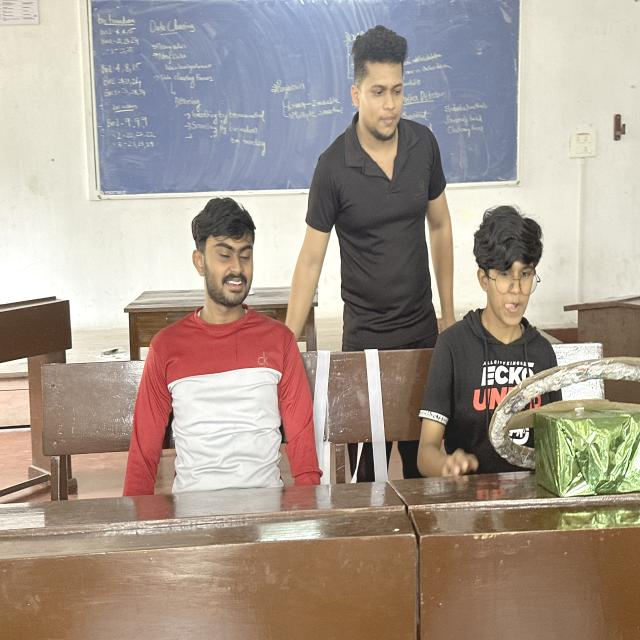no-seatbelt: (136, 306, 314, 504), (308, 133, 446, 340), (421, 307, 573, 488)
